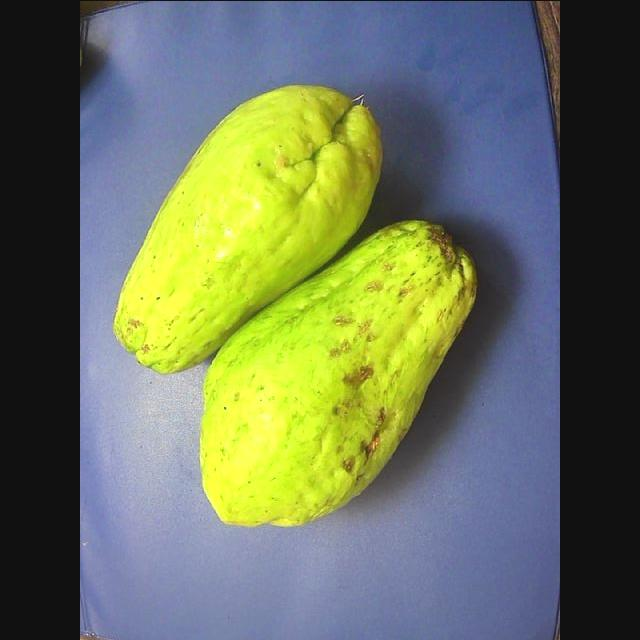chayote: (200, 220, 476, 526), (113, 85, 381, 373)
